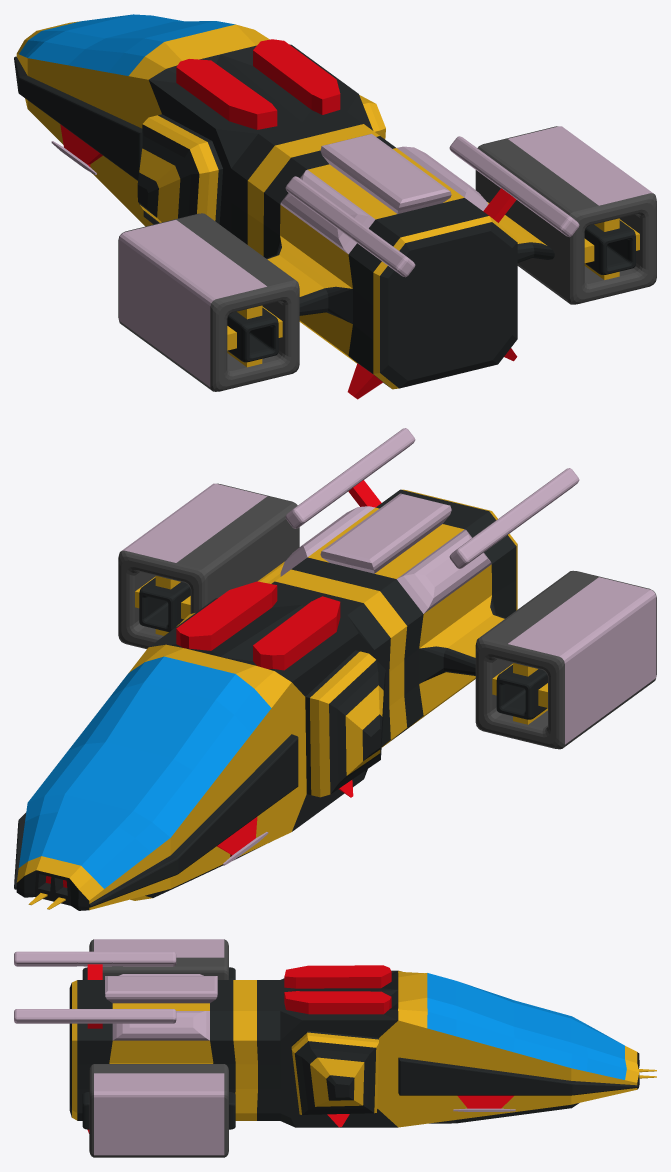
Rendered from Bee1.fbx.
3 renders of one model, top to bottom at view 1: azimuth 30°, elevation 25°; view 2: azimuth 150°, elevation 25°; view 3: azimuth 270°, elevation 25°, orthographic. The views are drawn at different scales.
Visible parts, largest first — view 1: Bee1, EngineLeft.001, EngineLeft; view 2: Bee1, EngineLeft.001, EngineLeft; view 3: Bee1, EngineLeft, EngineLeft.001.
Boxes of the visible parts, box(x1,y1,x2,y2) form: Bee1: box(14, 14, 579, 399); EngineLeft.001: box(118, 213, 299, 391); EngineLeft: box(475, 126, 656, 304); Bee1: box(14, 428, 579, 910); EngineLeft.001: box(475, 570, 656, 749); EngineLeft: box(118, 483, 299, 649); Bee1: box(14, 951, 656, 1133); EngineLeft: box(82, 1064, 235, 1157); EngineLeft.001: box(82, 939, 235, 979).
Size of the model in its own units: 623 by 242 by 1089.
